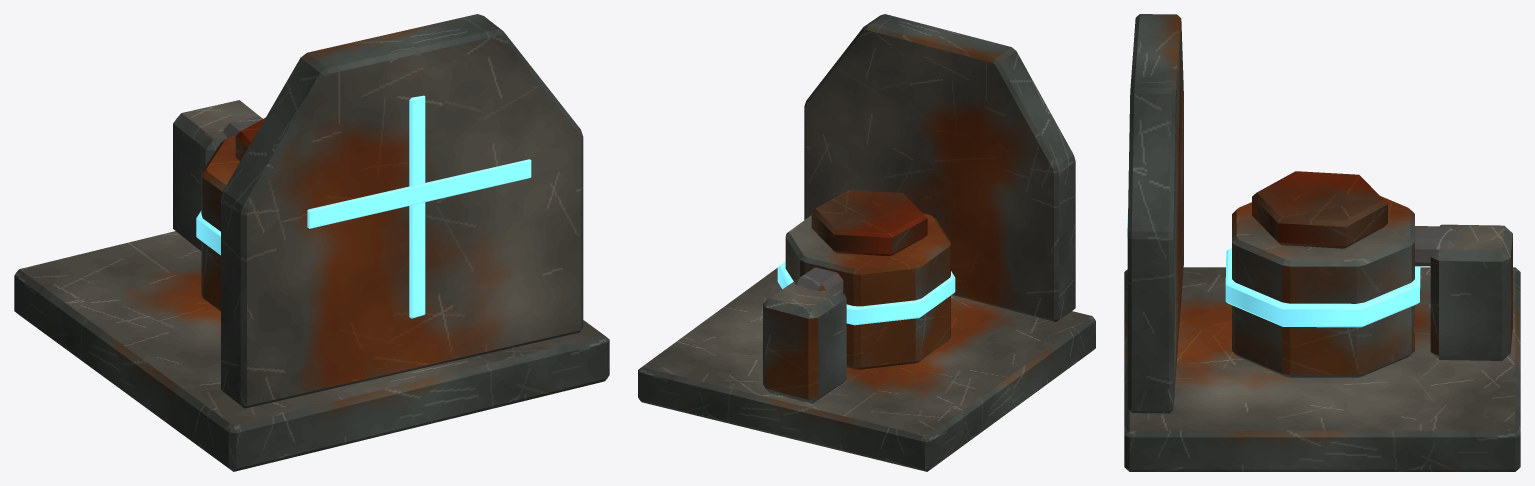
File: R4X_DefensiveTurretDeployer_LOD1.glb
The picture shows the model from 3 angles, left to right: view 1: azimuth 30°, elevation 25°; view 2: azimuth 150°, elevation 25°; view 3: azimuth 270°, elevation 25°; orthographic projection. The views are drawn at different scales.
Parts seen in each view (by area): view 1: R4X_DefensiveTurretDeployer_LOD1; view 2: R4X_DefensiveTurretDeployer_LOD1; view 3: R4X_DefensiveTurretDeployer_LOD1.
Part boxes in pixels (<box>): R4X_DefensiveTurretDeployer_LOD1: <box>14,14,609,471</box>; R4X_DefensiveTurretDeployer_LOD1: <box>638,14,1095,471</box>; R4X_DefensiveTurretDeployer_LOD1: <box>1124,14,1520,471</box>.
Bounding box in the file's own units: 0.52 × 0.49 × 0.52.
Materials: 5 (4 with a texture image).
